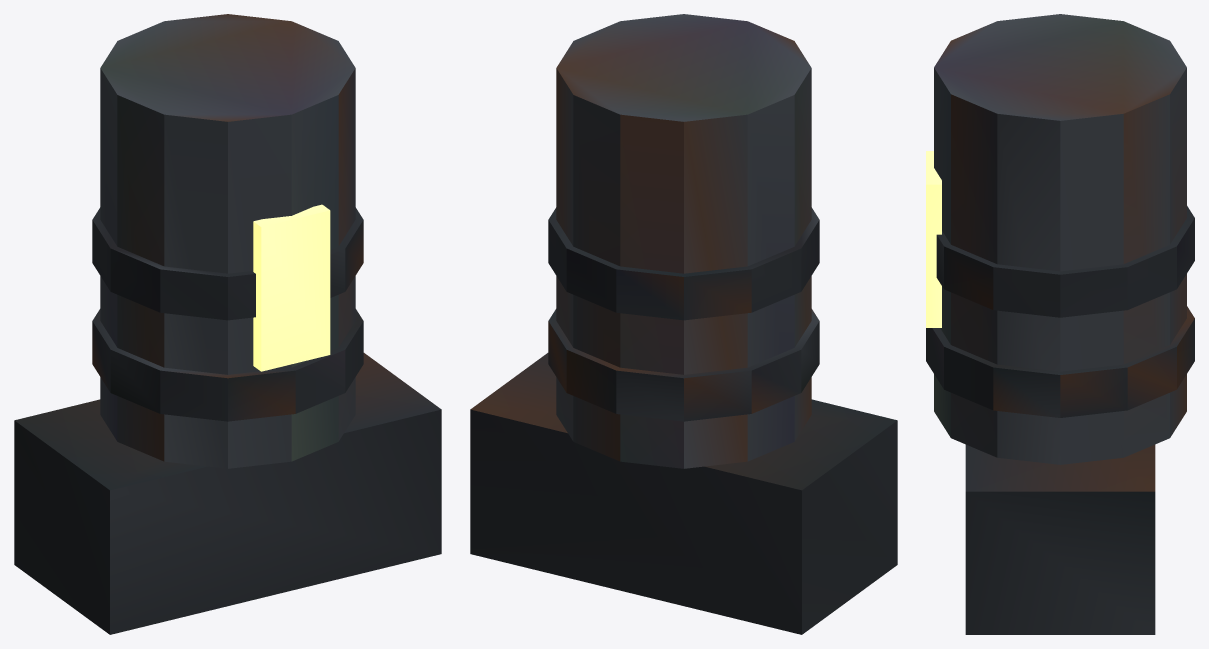
The model's file is reactor.glb.
3 renders of one model, left to right at view 1: azimuth 30°, elevation 25°; view 2: azimuth 150°, elevation 25°; view 3: azimuth 270°, elevation 25°, orthographic.
Visible parts, largest first — view 1: reactor; view 2: reactor; view 3: reactor.
Part boxes in pixels (bbox=[...]): reactor: bbox=[14, 14, 441, 634]; reactor: bbox=[470, 14, 897, 634]; reactor: bbox=[926, 14, 1194, 634].
Bounding box in the file's own units: 48 × 68 × 34.
